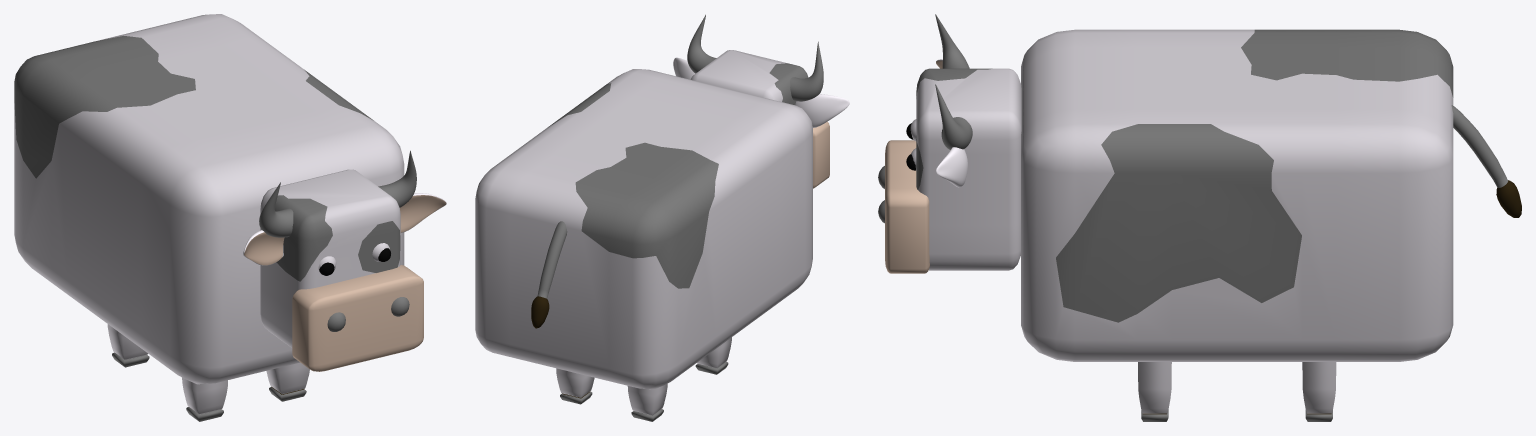
3 views of the same model, side by side, from view 1: azimuth 30°, elevation 25°; view 2: azimuth 150°, elevation 25°; view 3: azimuth 270°, elevation 25° (orthographic). The views are drawn at different scales.
Parts seen in each view (by area): view 1: cow body, cow head, cow head.001, cow ear, Cone, cow nose; view 2: cow body, cow head, Cone, tail.001, cow ear, cow head.001; view 3: cow body, cow head, cow head.001, tail.001, Cone, cow ear.
Part boxes in pixels (box(x1,y1,x2,y2)): cow body: box(14, 14, 404, 421); cow head: box(260, 169, 400, 347); cow head.001: box(292, 265, 423, 371); cow ear: box(243, 193, 446, 265); Cone: box(259, 150, 416, 237); cow nose: box(327, 297, 409, 331); cow body: box(475, 69, 812, 421); cow head: box(690, 50, 808, 104); Cone: box(687, 14, 823, 101); tail.001: box(531, 221, 567, 328); cow ear: box(673, 57, 849, 127); cow head.001: box(813, 121, 829, 188); cow body: box(1021, 29, 1453, 421); cow head: box(916, 68, 1021, 270); cow head.001: box(885, 140, 929, 273); tail.001: box(1451, 105, 1521, 217); Cone: box(935, 14, 972, 149); cow ear: box(936, 59, 967, 187).
Size of the model in its own units: 128 by 169 by 286.
